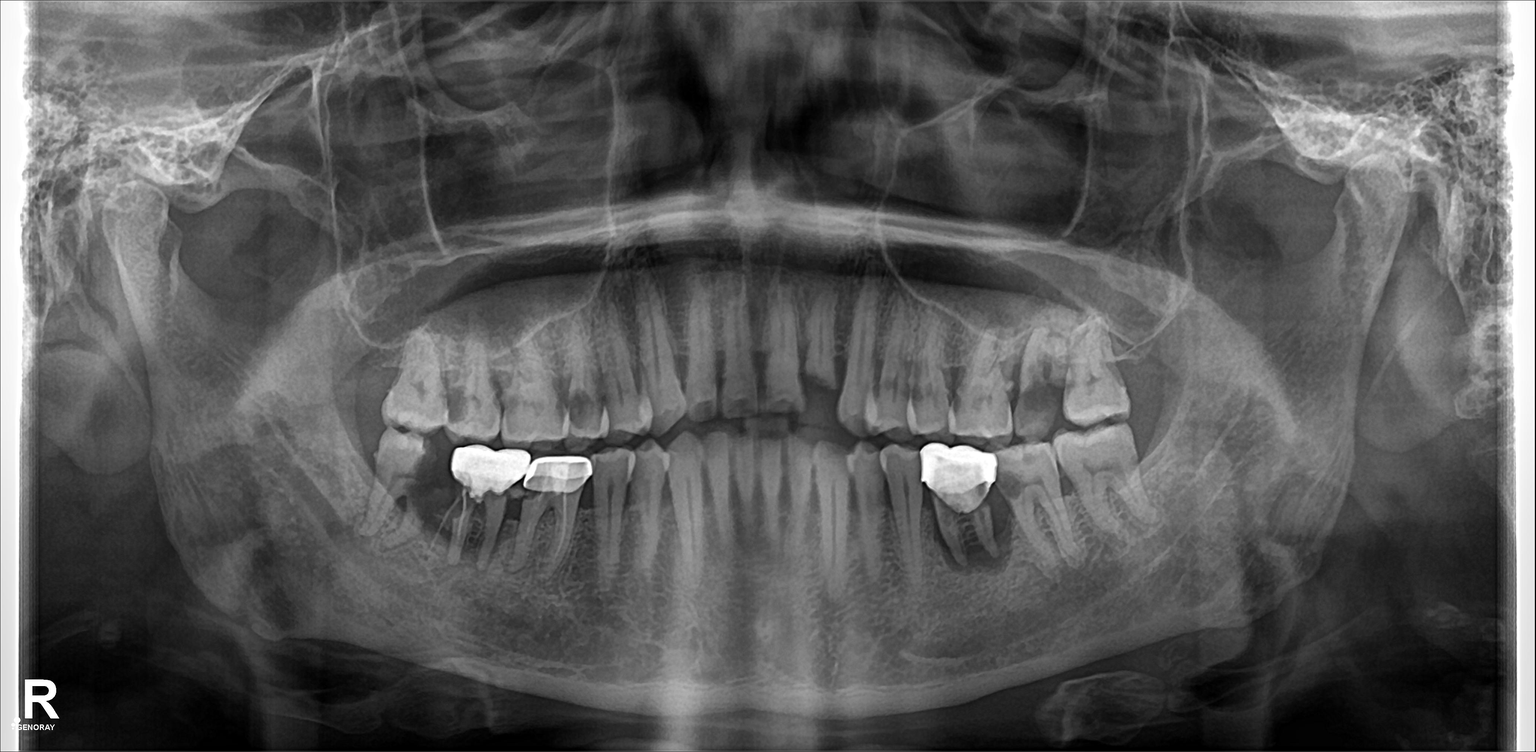Dental Caries: (924, 449, 998, 567), (417, 437, 457, 512), (564, 383, 608, 432), (1021, 380, 1056, 429), (436, 382, 474, 423)
Endodontically Treated Tooth: (514, 447, 583, 565), (459, 447, 507, 570)
Missing Tooth: (1126, 294, 1175, 411), (343, 328, 401, 405), (335, 423, 372, 530)
